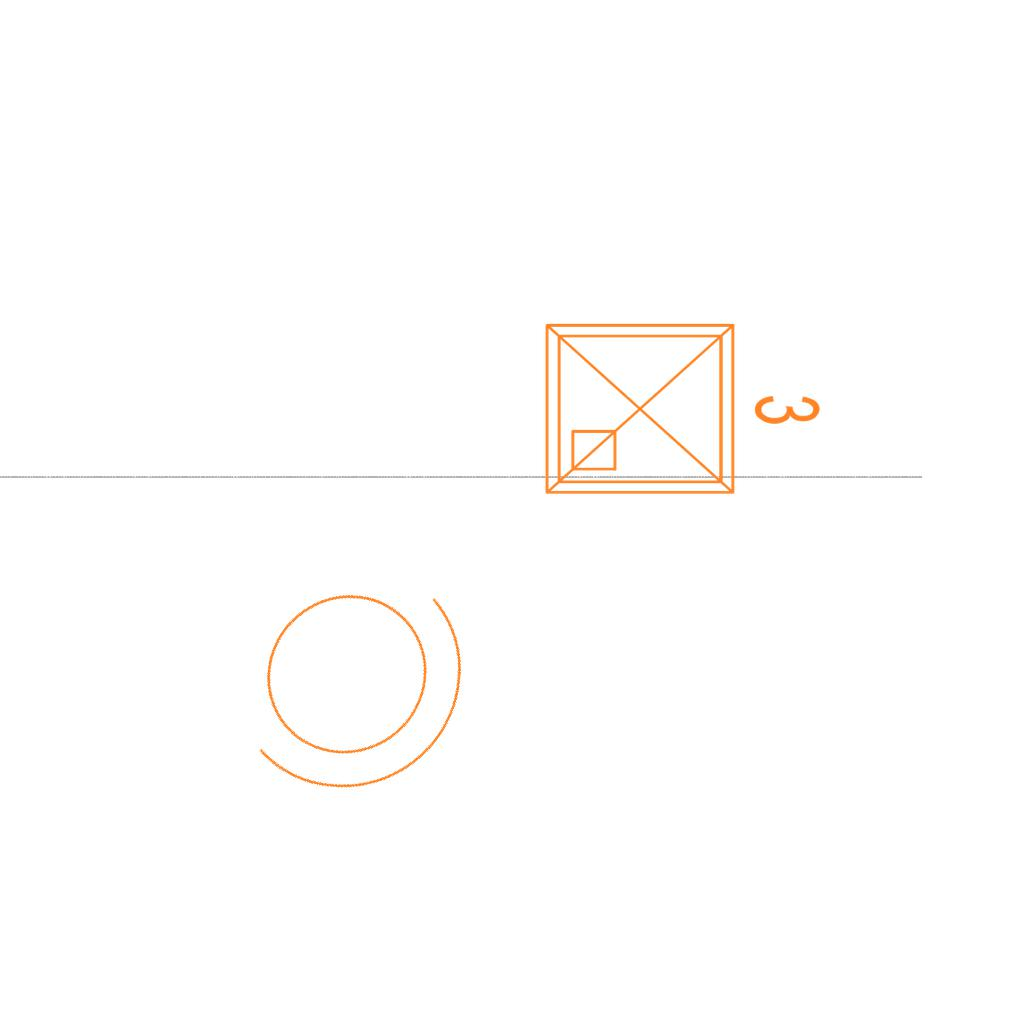Einbaudownlights_LED_Konferenzraeume: (531, 301, 831, 509)
Scheinwerfer_fuer_Alarmbeleuchtung: (184, 505, 532, 850)
